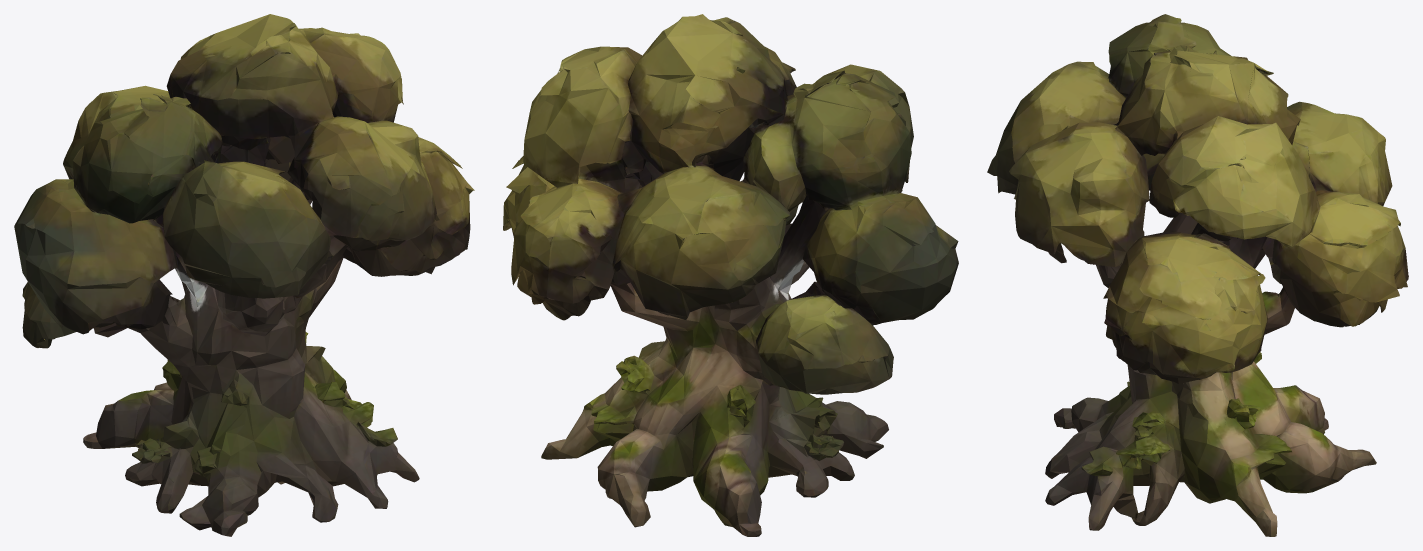
File: oak1.glb
3 renders of one model, left to right at view 1: azimuth 30°, elevation 25°; view 2: azimuth 150°, elevation 25°; view 3: azimuth 270°, elevation 25°, orthographic.
Parts seen in each view (by area): view 1: world; view 2: world; view 3: world.
Boxes of the visible parts, <box> form: world: <box>14,14,474,536</box>; world: <box>503,14,958,536</box>; world: <box>987,14,1408,536</box>.
Bounding box in the file's own units: 0.9824 × 0.9911 × 0.8535.
Materials: 1 (1 with a texture image).
